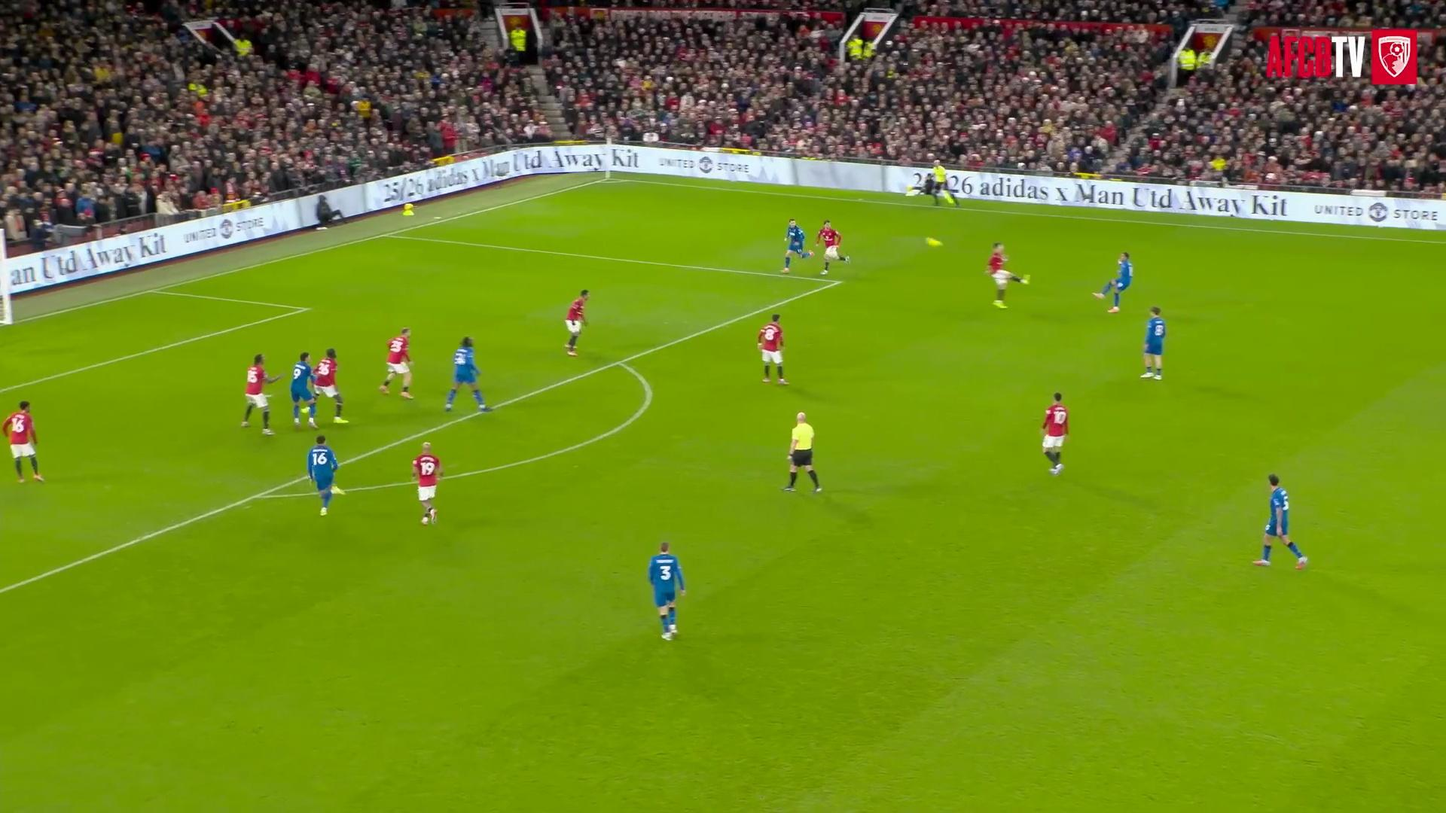football: (925, 233, 947, 253)
player: (1253, 475, 1307, 568), (648, 541, 685, 639), (445, 336, 490, 412), (4, 401, 43, 483), (241, 354, 279, 434), (307, 435, 343, 515), (987, 242, 1029, 308), (313, 349, 348, 424), (412, 442, 441, 523), (1095, 252, 1132, 312), (1042, 392, 1068, 474), (380, 327, 410, 398), (758, 313, 787, 384), (290, 352, 316, 428), (1141, 306, 1166, 379), (815, 221, 848, 274), (782, 218, 811, 273), (565, 290, 589, 355)
referee: (782, 412, 821, 492), (929, 160, 959, 206)
